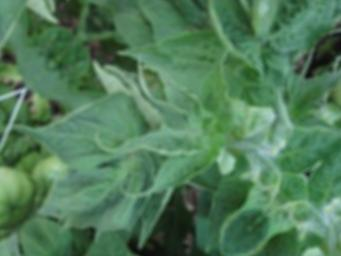Tomato leaf mosaic virus: (11, 56, 166, 210), (117, 0, 262, 140), (95, 87, 210, 202), (124, 121, 229, 223)
